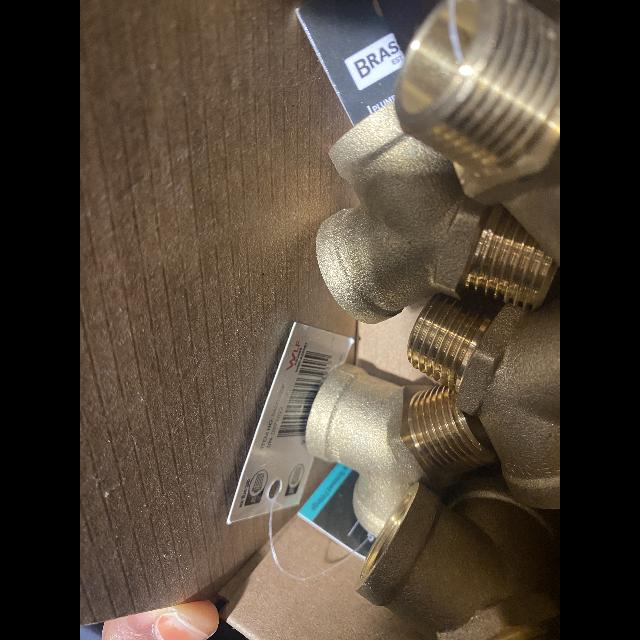Brass: (316, 101, 553, 324), (394, 0, 560, 265), (359, 466, 557, 640), (307, 365, 497, 537), (406, 296, 560, 508)
